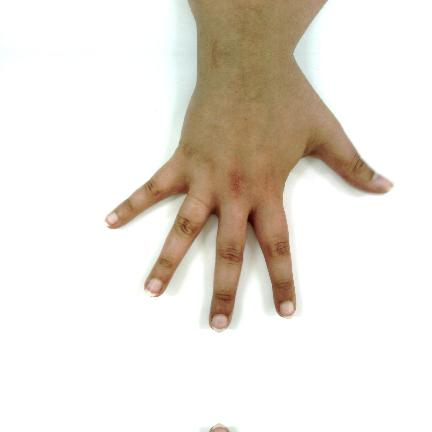Nail: (372, 172, 394, 192), (144, 278, 163, 297), (210, 314, 228, 333), (279, 301, 296, 319), (105, 212, 118, 227), (210, 423, 228, 432)
